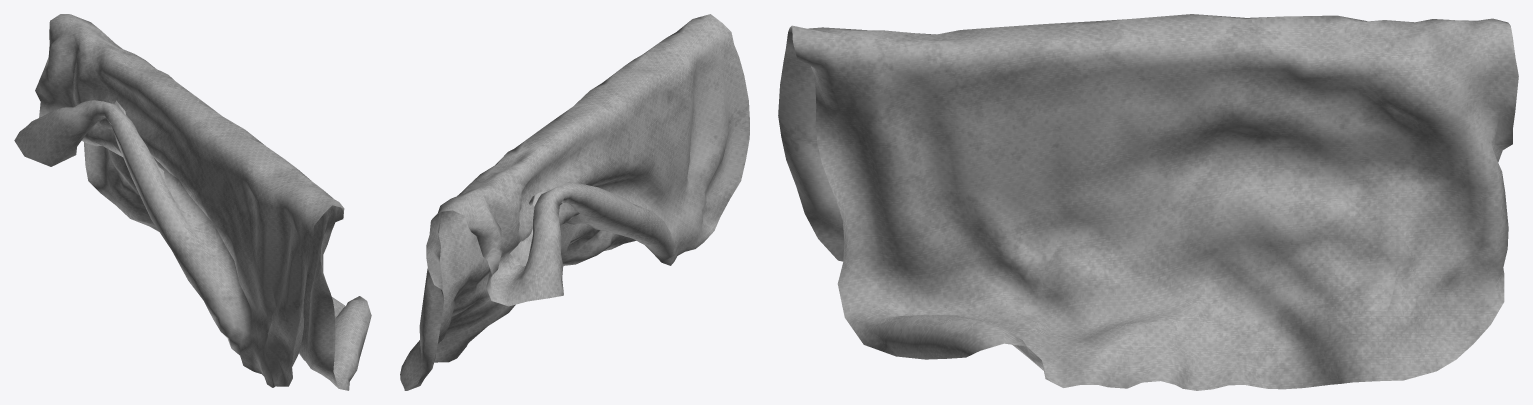
The model's file is SM_Fabric-HangingLarge.fbx.
3 renders of one model, left to right at view 1: azimuth 30°, elevation 25°; view 2: azimuth 150°, elevation 25°; view 3: azimuth 270°, elevation 25°, orthographic. The views are drawn at different scales.
Visible parts, largest first — view 1: SM_Fabric-HangingLarge_LOD0; view 2: SM_Fabric-HangingLarge_LOD0; view 3: SM_Fabric-HangingLarge_LOD0.
Boxes of the visible parts, x1,y1,x2,y2 form: SM_Fabric-HangingLarge_LOD0: (14, 14, 371, 390); SM_Fabric-HangingLarge_LOD0: (400, 14, 749, 390); SM_Fabric-HangingLarge_LOD0: (778, 14, 1518, 390).
Bounding box in the file's own units: 93.81 × 223 × 106.
2 materials, 2 textured.
